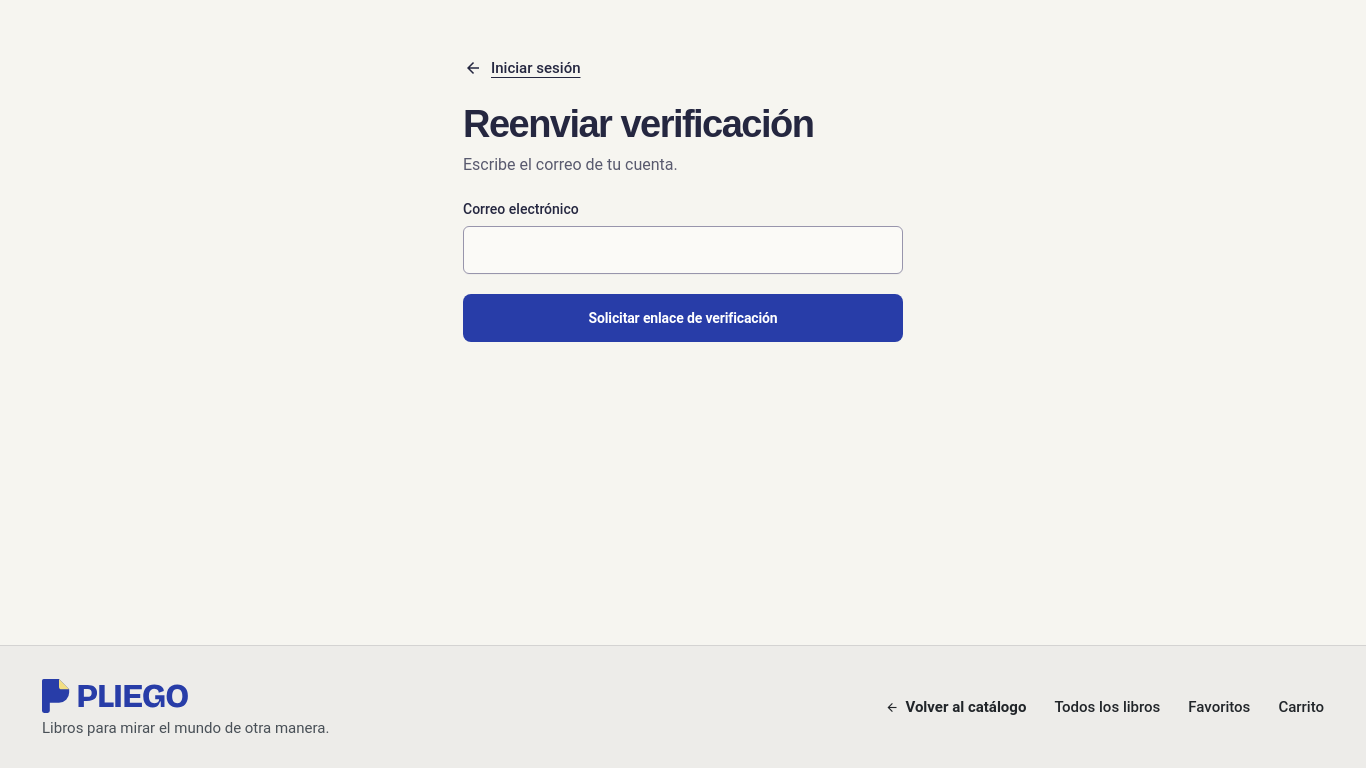
Test case: customer email actions › lets a customer correct a rejected email request without automatic retry
Type "ana@example.com" into the field labelled "Correo electrónico" at (683, 250), box [463,226,903,274]
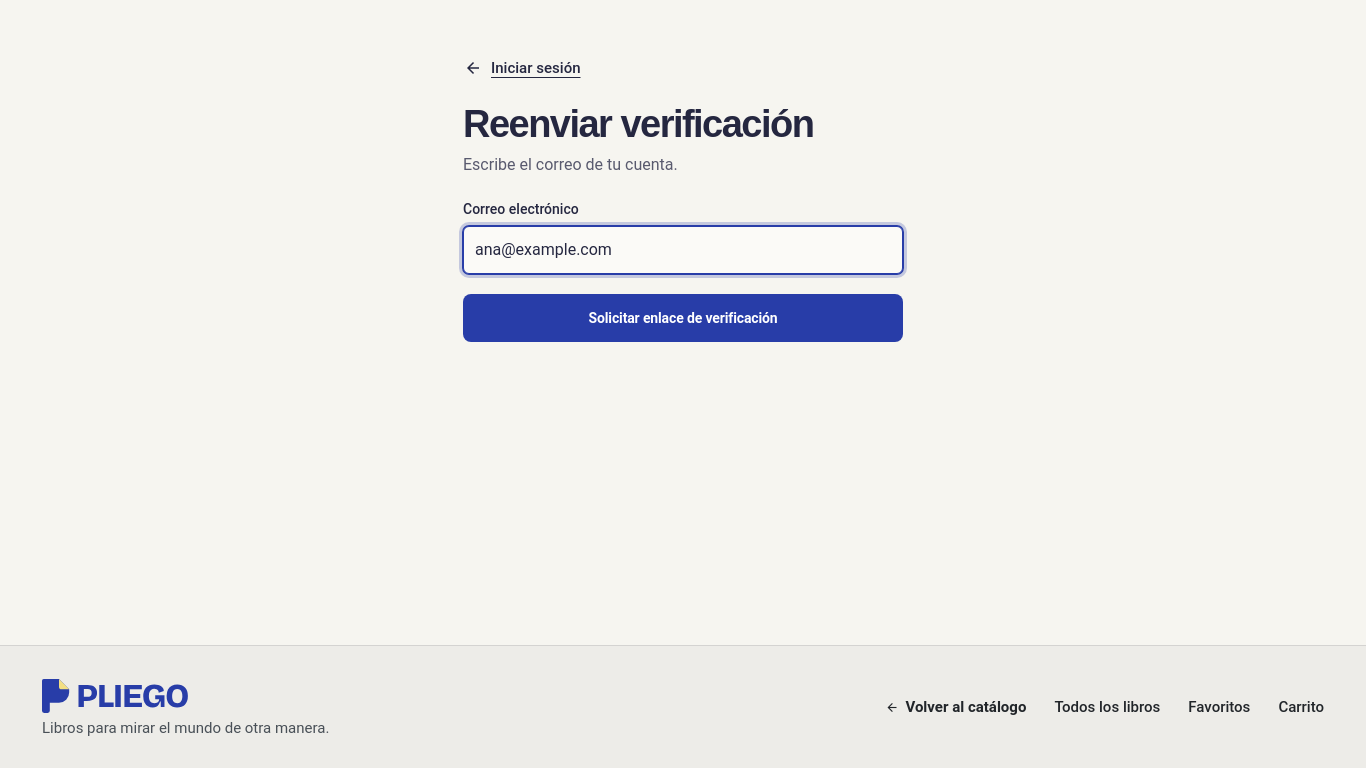
Click the button "Solicitar enlace de verificación" at (683, 318), box [463,294,903,342]
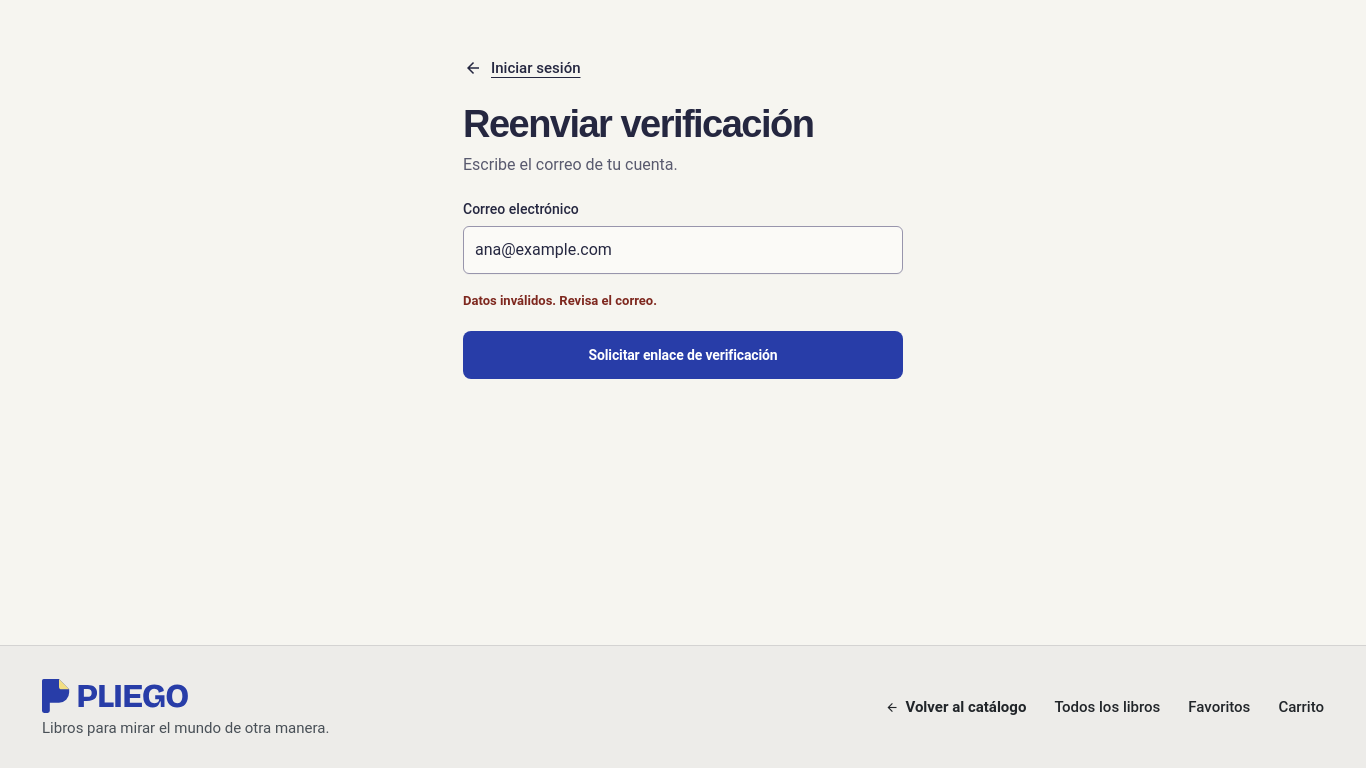
Result: the message shows "Revisa el correo" at [463,293,657,308]
Replace the text in the field labelled "Correo electrónico" with "otra@example.com" at (683, 250), box [463,226,903,274]
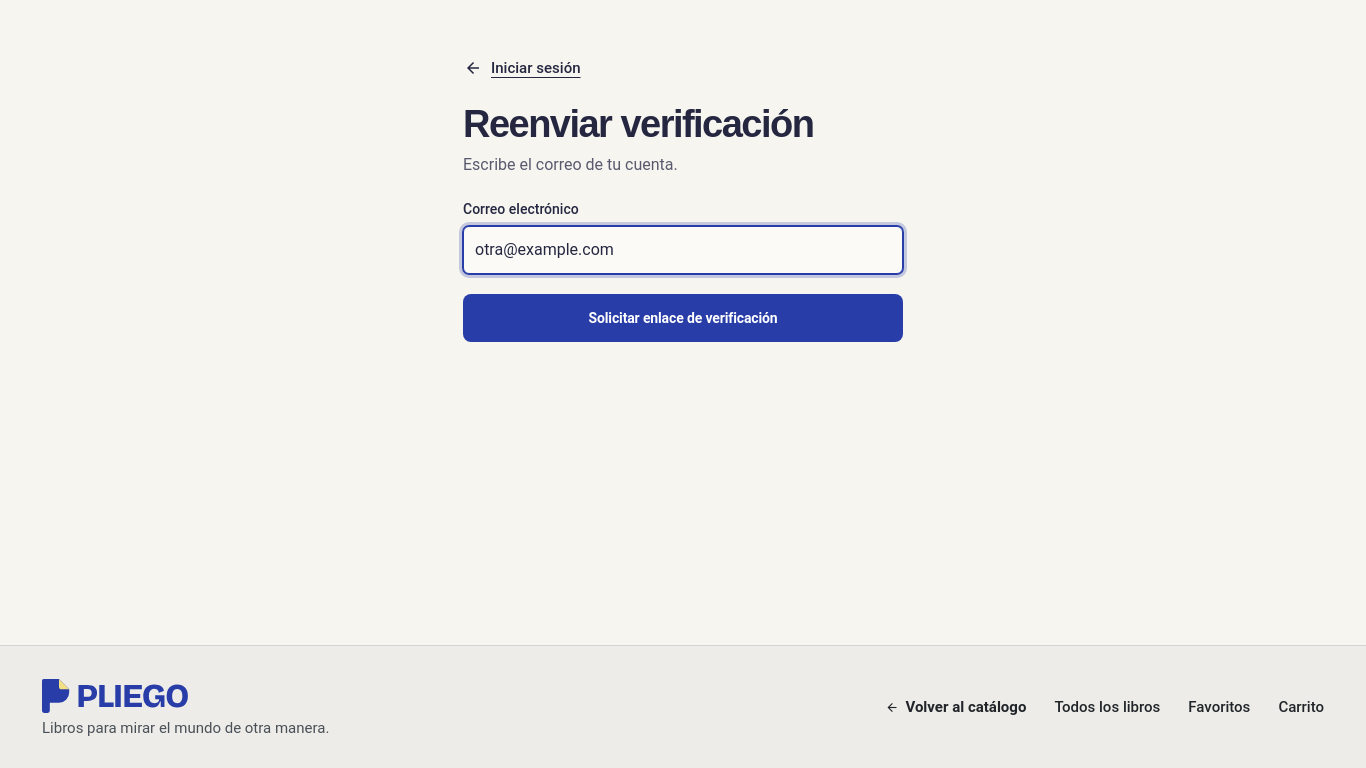
Click the button "Solicitar enlace de verificación" at (683, 318), box [463,294,903,342]
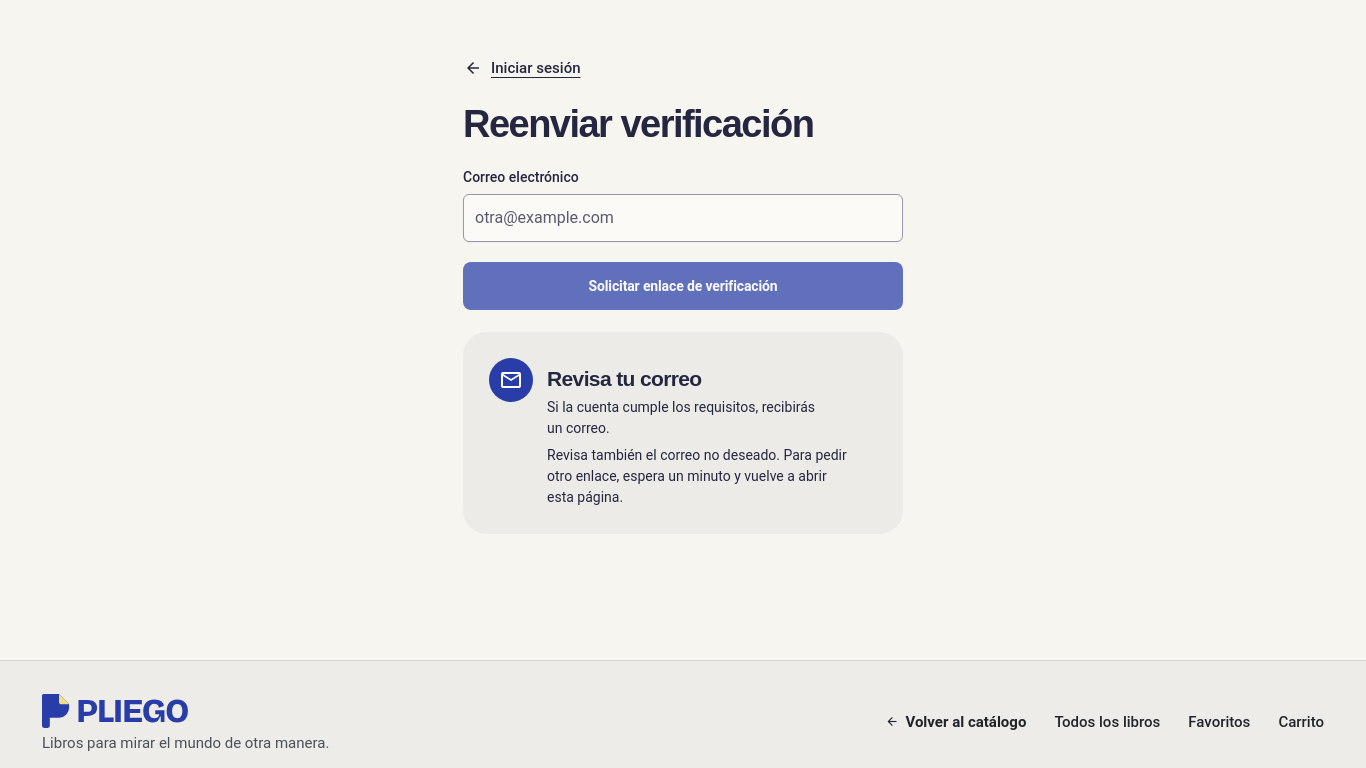
Result: the message shows "Si la cuenta cumple" at [547,399,815,436]
